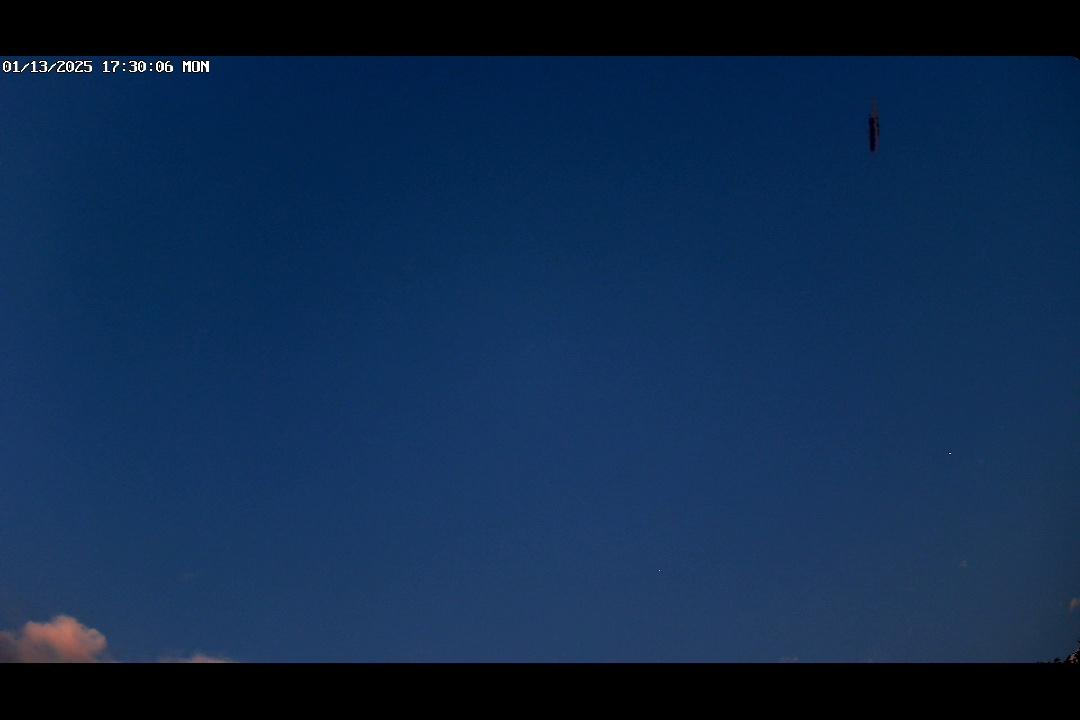WildLife: (858, 88, 886, 174)
